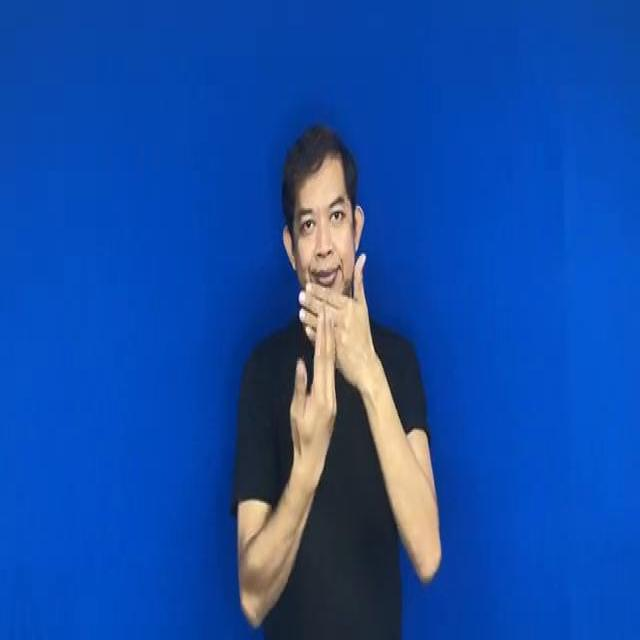bread: (279, 251, 390, 493)
